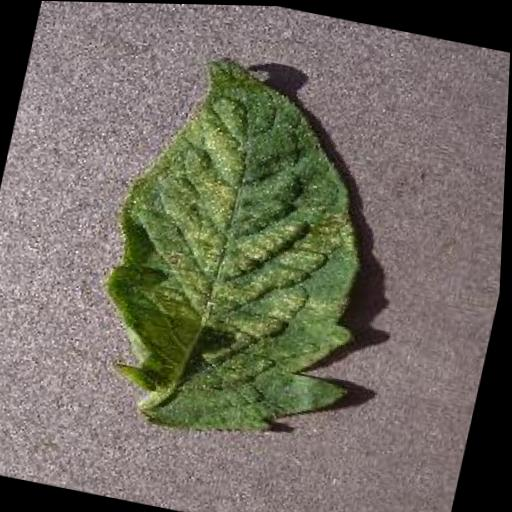Spider Mites: (78, 36, 416, 463)
